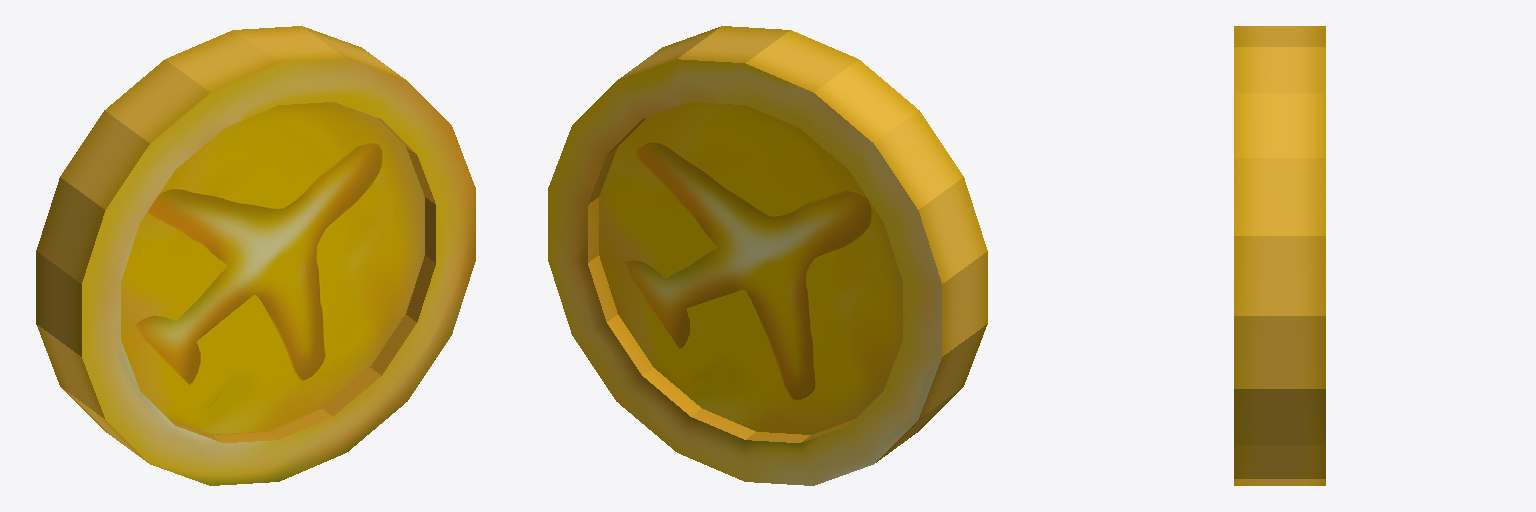
3 renders of one model, left to right at view 1: azimuth 30°, elevation 25°; view 2: azimuth 150°, elevation 25°; view 3: azimuth 270°, elevation 25°, orthographic.
Parts seen in each view (by area): view 1: low_coin; view 2: low_coin; view 3: low_coin.
Boxes of the visible parts, x1,y1,x2,y2 form: low_coin: [36, 26, 475, 485]; low_coin: [548, 26, 987, 485]; low_coin: [1234, 26, 1325, 485].
Size of the model in its own units: 0.242 by 0.2457 by 0.0484.
1 materials, 1 textured.